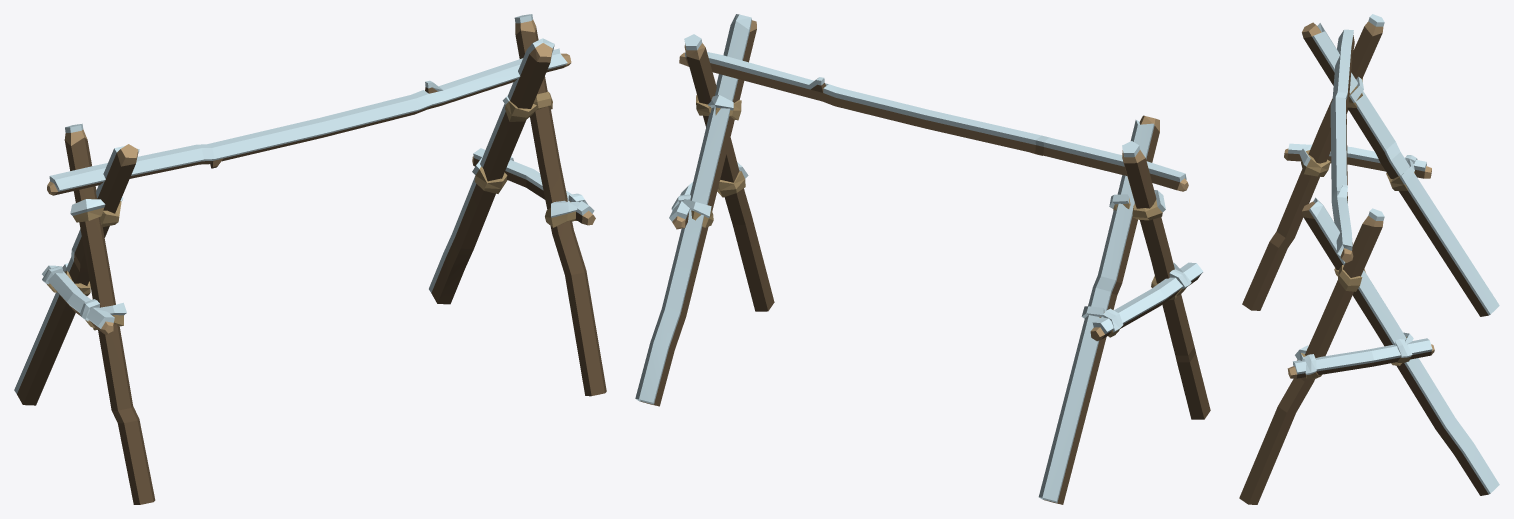
File: Secador_Carnes.glb
3 renders of one model, left to right at view 1: azimuth 30°, elevation 25°; view 2: azimuth 150°, elevation 25°; view 3: azimuth 270°, elevation 25°, orthographic. The views are drawn at different scales.
Visible parts, largest first — view 1: SM_Prop_Fish_Rack_02_Snow; view 2: SM_Prop_Fish_Rack_02_Snow; view 3: SM_Prop_Fish_Rack_02_Snow.
Boxes of the visible parts, <box> form: SM_Prop_Fish_Rack_02_Snow: <box>14,14,606,504</box>; SM_Prop_Fish_Rack_02_Snow: <box>635,14,1210,504</box>; SM_Prop_Fish_Rack_02_Snow: <box>1239,14,1499,504</box>.
Size of the model in its own units: 3.4 by 2.09 by 1.67.
1 material, 1 textured.
